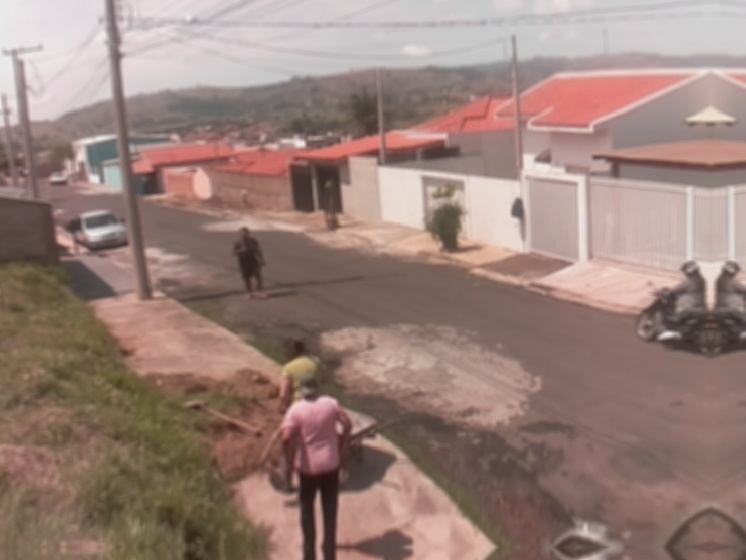person: (279, 371, 353, 560), (655, 261, 746, 341), (278, 337, 335, 405), (228, 226, 270, 302)
